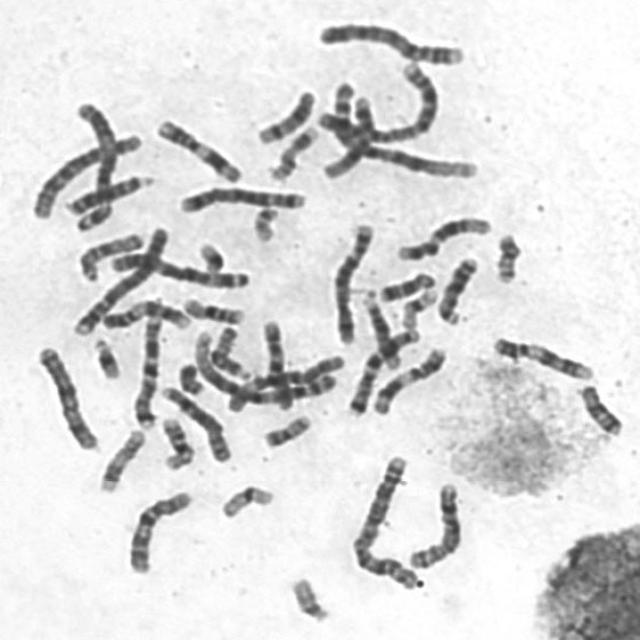A1: (320, 92, 481, 183), (192, 323, 340, 409)
A2: (313, 56, 440, 148), (346, 450, 424, 591)
A3: (68, 95, 122, 230), (105, 248, 253, 291)
B4: (67, 220, 173, 336), (312, 16, 468, 68)
B5: (327, 218, 377, 346), (173, 181, 310, 215)
C10: (122, 484, 196, 576), (257, 315, 296, 413)
C11: (149, 113, 246, 185), (367, 342, 450, 416)
C12: (390, 210, 496, 264), (317, 89, 377, 181)
C6: (26, 127, 144, 220), (219, 348, 346, 414)
C7: (342, 323, 424, 418), (128, 308, 165, 432)
C8: (154, 381, 233, 465), (403, 477, 465, 572)
C9: (485, 331, 597, 382), (97, 295, 195, 332)
D13: (60, 170, 156, 217), (432, 252, 482, 327)
D14: (352, 284, 403, 372), (252, 84, 319, 145)
D15: (74, 228, 147, 284), (206, 322, 252, 383)
E16: (155, 411, 197, 473), (177, 293, 247, 325)
E17: (93, 424, 148, 494), (264, 120, 321, 183)
E18: (572, 380, 626, 437), (374, 268, 438, 303)
F19: (215, 480, 277, 521), (395, 282, 441, 330)
F20: (258, 409, 314, 450), (488, 228, 524, 285)
G21: (87, 332, 123, 382), (192, 237, 228, 275)
G22: (284, 572, 332, 624), (248, 202, 282, 245)
X: (31, 340, 102, 453)
Y: (173, 359, 207, 397)
